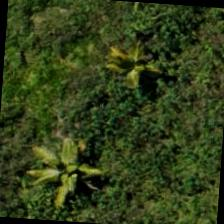Kelapa_Sawit: (97, 13, 194, 109), (43, 83, 138, 180)
